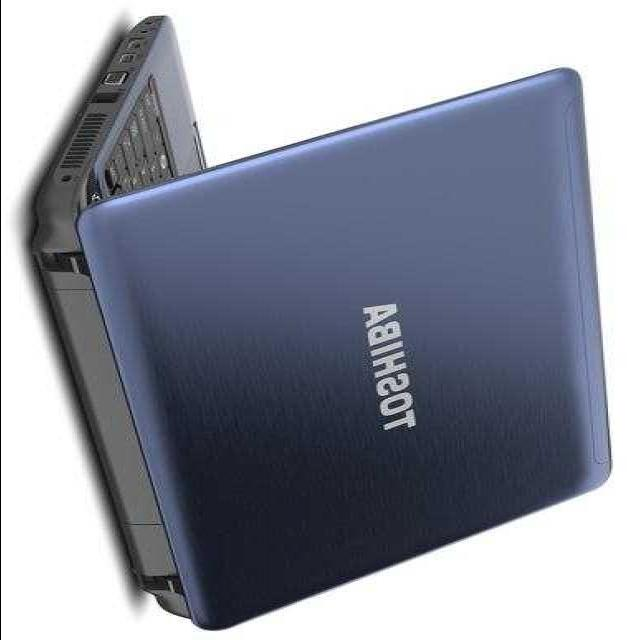laptop: (42, 23, 607, 584)
